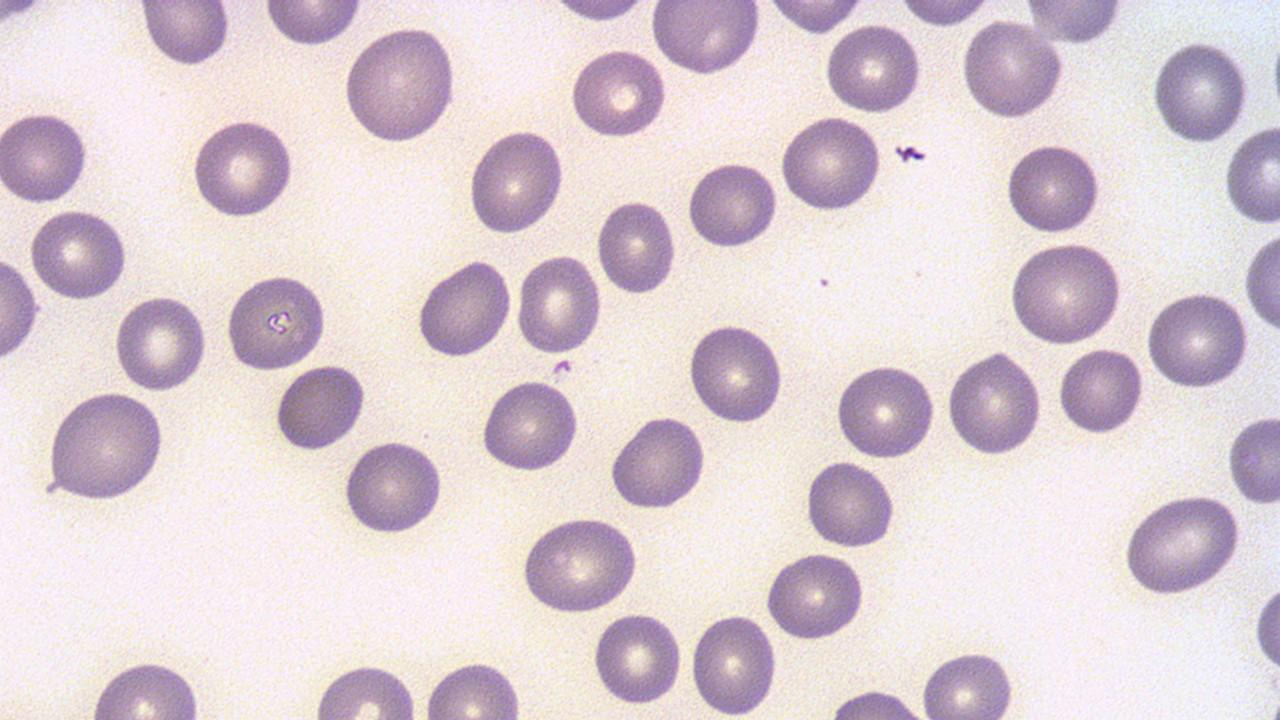RBC: (341, 23, 460, 146), (44, 387, 168, 503), (1119, 490, 1245, 598), (1007, 238, 1125, 348), (518, 514, 640, 616), (188, 114, 299, 221), (958, 15, 1067, 123), (1148, 37, 1252, 146), (222, 270, 332, 373), (778, 111, 886, 214), (340, 436, 446, 540), (1143, 288, 1251, 390), (831, 360, 940, 461), (945, 348, 1045, 458), (466, 126, 566, 236), (687, 320, 787, 427), (414, 256, 514, 360), (477, 377, 582, 475), (688, 609, 782, 717), (606, 414, 710, 511), (113, 291, 210, 394), (762, 548, 867, 642), (28, 206, 130, 302), (821, 20, 924, 115), (1002, 140, 1103, 236), (590, 608, 686, 708), (568, 46, 670, 140), (514, 251, 602, 357), (270, 360, 370, 453), (0, 106, 93, 206), (685, 158, 781, 252), (801, 458, 898, 550), (648, 1, 766, 76), (594, 196, 680, 297), (1055, 344, 1147, 437), (82, 655, 210, 717), (916, 646, 1021, 717), (308, 658, 421, 716), (137, 1, 233, 69), (419, 656, 526, 717), (1222, 120, 1280, 226), (1225, 410, 1279, 508), (258, 1, 366, 46), (0, 252, 43, 363), (1022, 1, 1126, 46), (761, 0, 867, 36), (1243, 228, 1279, 332), (1249, 571, 1279, 684), (892, 0, 995, 29), (544, 0, 656, 26)
